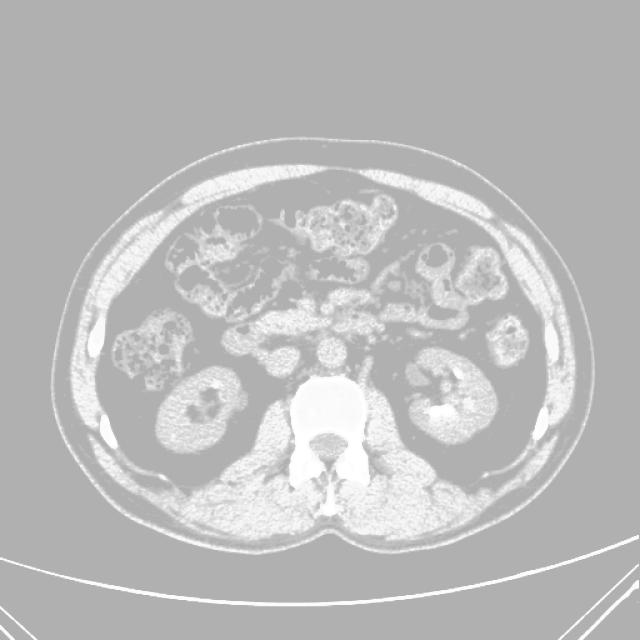STONE: (148, 316, 513, 478)
